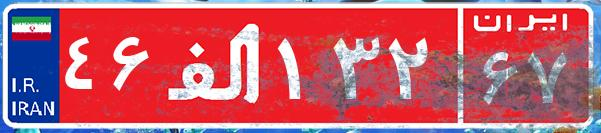1: (273, 28, 330, 110)
2: (385, 28, 445, 110)
3: (330, 28, 385, 110)
4: (57, 26, 110, 107)
6: (475, 38, 525, 113), (110, 28, 158, 105)
7: (525, 38, 570, 115)
الف: (158, 15, 273, 115)
